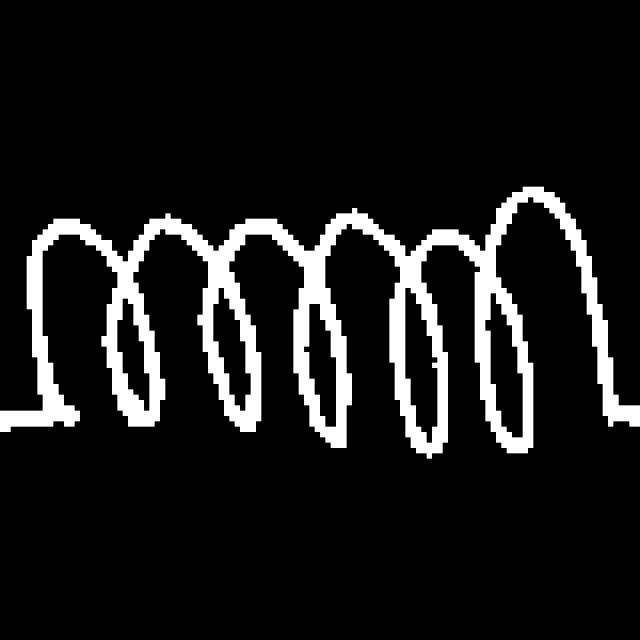inductor: (19, 180, 610, 469)
